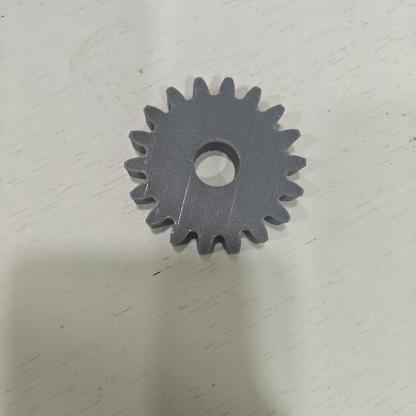gear: (114, 70, 318, 266)
